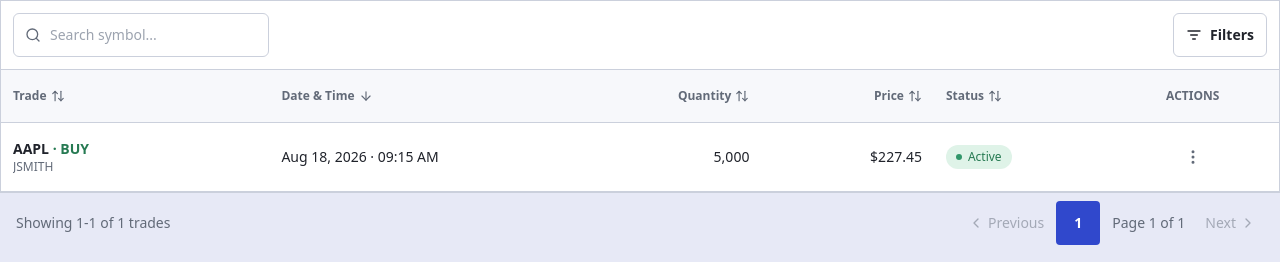
Test case: TradeBlotterTable › puts row actions in a dedicated column and opens the action menu
Expected: the column heading "Actions" is shown, left=1106, top=70, right=1279, bottom=122
Step 1. Click the button named "Trade actions for TRD-100001" → (1193,157), box left=1171, top=135, right=1215, bottom=179
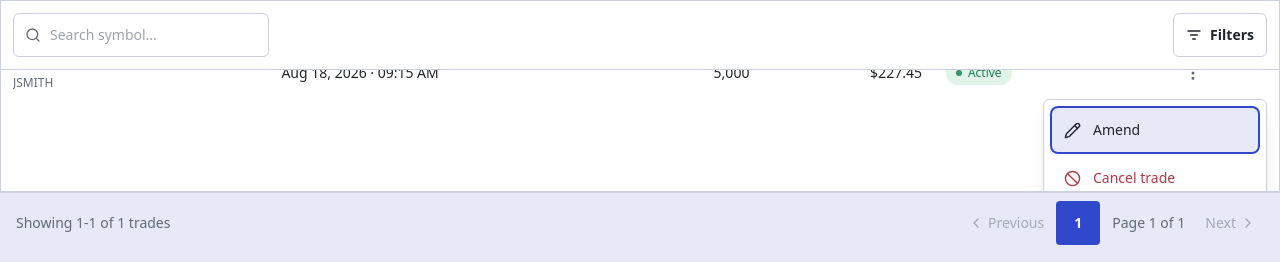
Expected: the menu is shown, left=1043, top=99, right=1267, bottom=191
Expected: the menu item "Amend" is shown, left=1052, top=108, right=1258, bottom=152
Expected: the menu item "Cancel trade" is shown, left=1052, top=156, right=1258, bottom=191
